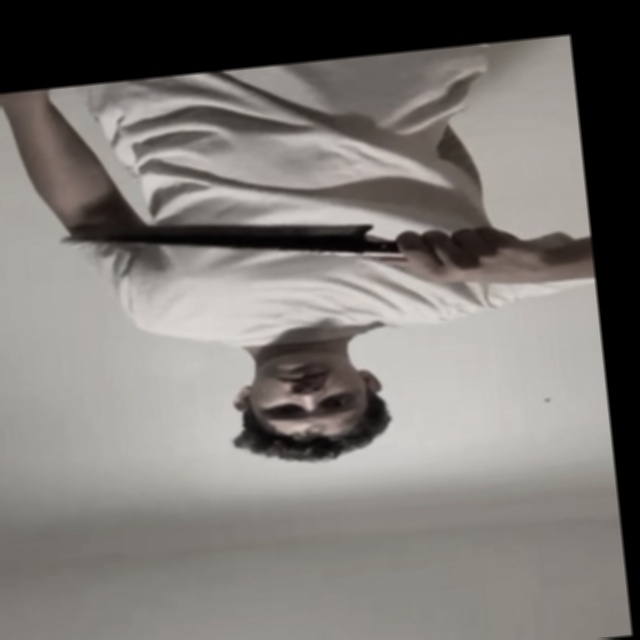Sharp-Object: (49, 206, 383, 289)
